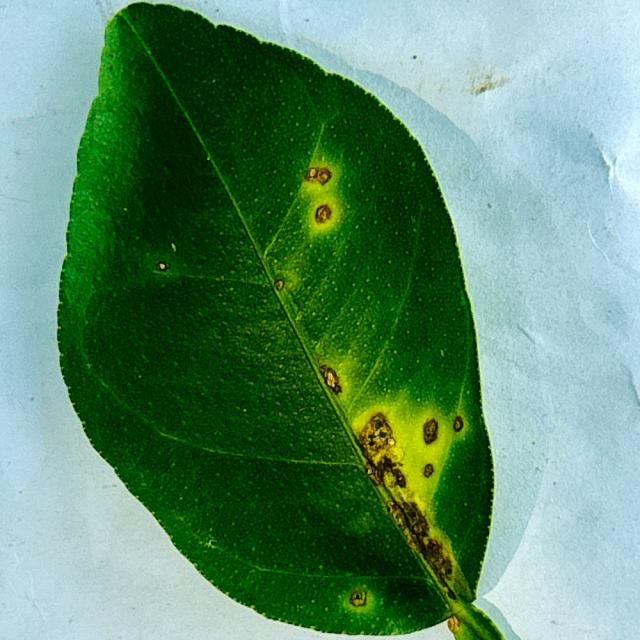Anthracnose: (354, 396, 458, 506), (303, 165, 346, 236), (139, 244, 185, 281)
Lemon: (56, 3, 518, 639)
